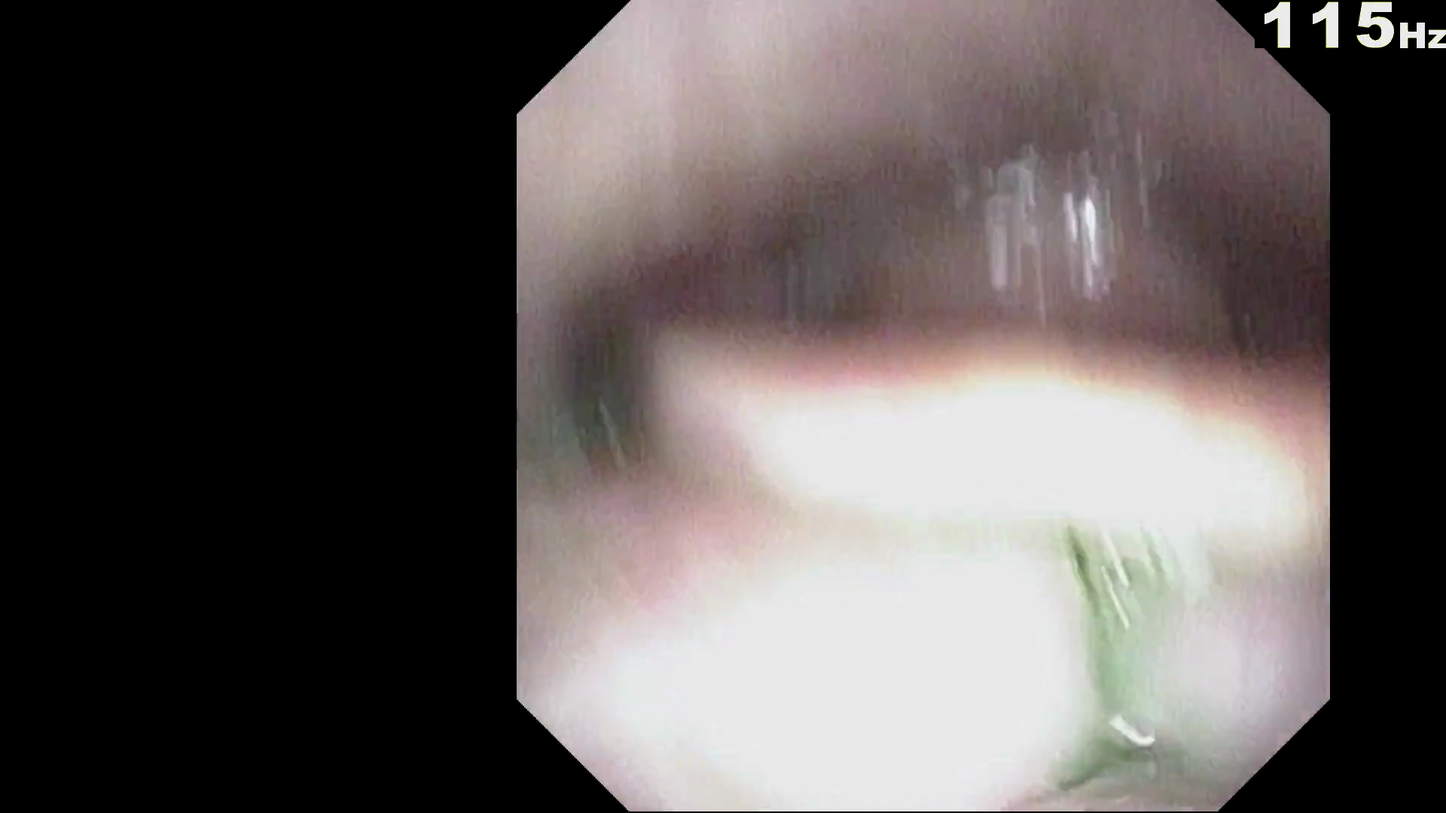epiglottis: (734, 392, 1325, 589)
trachea: (919, 355, 1060, 511)
